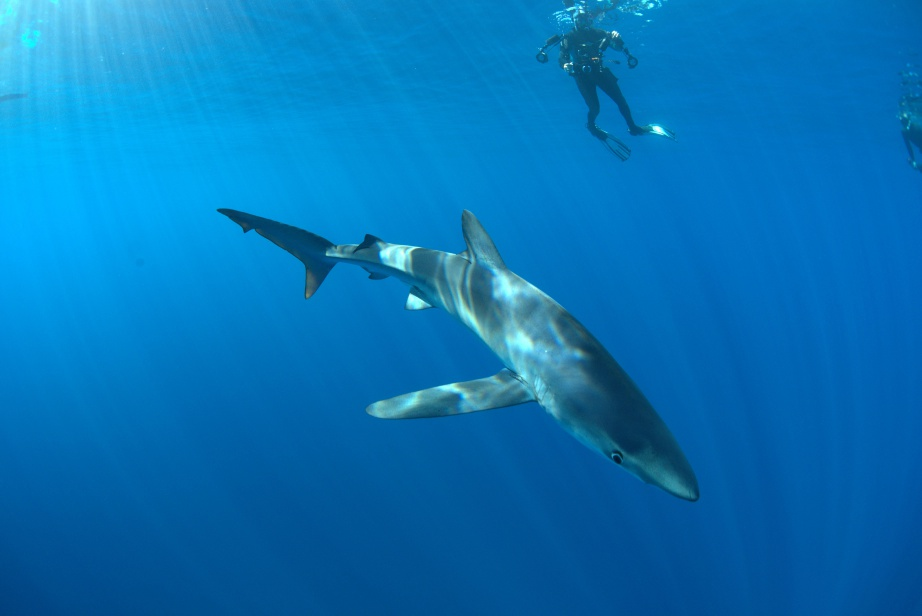Azul: (199, 170, 713, 513)
